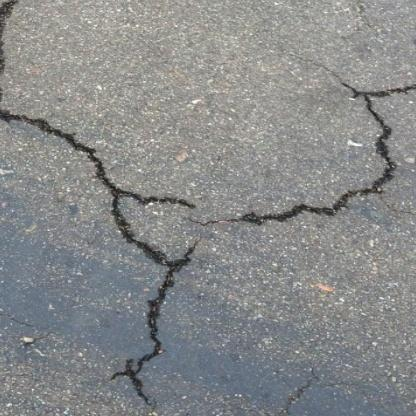Cracks: (0, 0, 204, 415), (222, 51, 416, 232), (271, 359, 325, 416), (0, 309, 36, 331), (185, 215, 220, 232)
